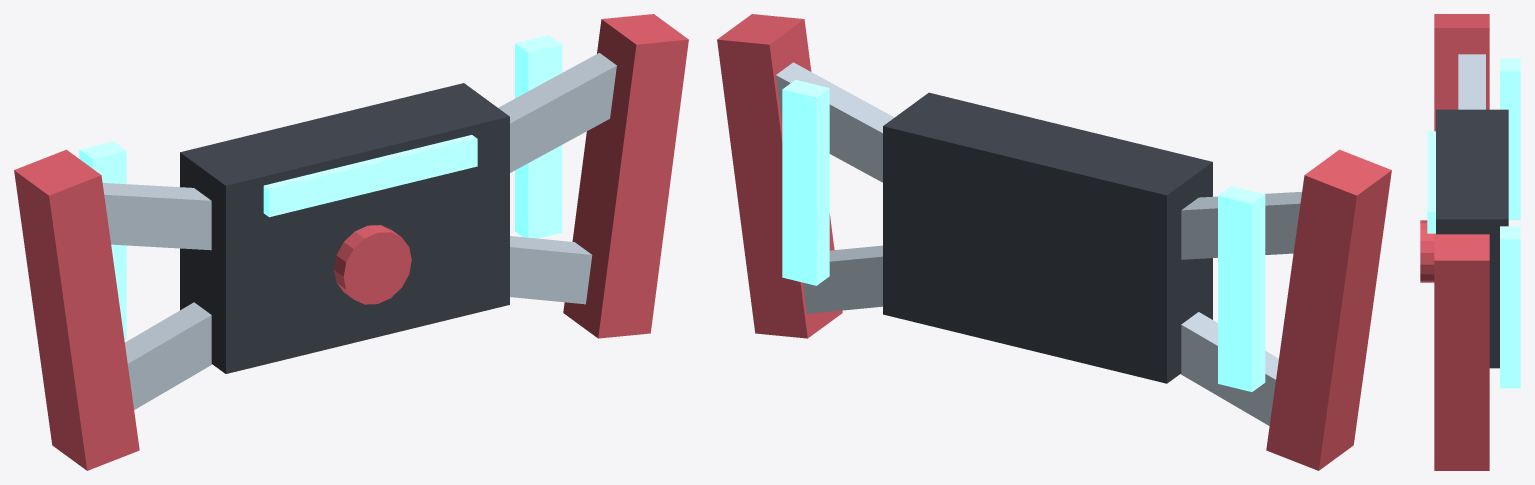
The model's file is steering_turbo_proto.glb.
3 renders of one model, left to right at view 1: azimuth 30°, elevation 25°; view 2: azimuth 150°, elevation 25°; view 3: azimuth 270°, elevation 25°, orthographic. The views are drawn at different scales.
Visible parts, largest first — view 1: WheelHub, ButterflyGripLeft, ButterflyGripRight, SpokeUpRight, ShiftLedBar, SpokeUpLeft, PaddleShifterRight, SpokeLowLeft, SpokeLowRight, RotaryDialC, PaddleShifterLeft; view 2: WheelHub, ButterflyGripLeft, ButterflyGripRight, PaddleShifterLeft, PaddleShifterRight, SpokeUpRight, SpokeLowLeft, SpokeUpLeft, SpokeLowRight; view 3: ButterflyGripRight, WheelHub, ButterflyGripLeft, PaddleShifterRight, PaddleShifterLeft, SpokeUpLeft, ShiftLedBar, RotaryDialC.
Boxes of the visible parts, left/top/right/bottom form: WheelHub: left=180, top=83, right=509, bottom=373; ButterflyGripLeft: left=14, top=149, right=139, bottom=470; ButterflyGripRight: left=563, top=14, right=688, bottom=338; SpokeUpRight: left=498, top=53, right=616, bottom=172; ShiftLedBar: left=263, top=135, right=477, bottom=217; SpokeUpLeft: left=102, top=183, right=211, bottom=250; PaddleShifterRight: left=515, top=35, right=562, bottom=238; SpokeLowLeft: left=125, top=302, right=212, bottom=409; SpokeLowRight: left=510, top=236, right=592, bottom=304; RotaryDialC: left=334, top=225, right=411, bottom=304; PaddleShifterLeft: left=79, top=141, right=126, bottom=339; WheelHub: left=883, top=92, right=1212, bottom=383; ButterflyGripLeft: left=1266, top=149, right=1391, bottom=470; ButterflyGripRight: left=717, top=14, right=842, bottom=338; PaddleShifterLeft: left=1218, top=186, right=1265, bottom=391; PaddleShifterRight: left=782, top=79, right=829, bottom=285; SpokeUpRight: left=776, top=62, right=894, bottom=182; SpokeLowLeft: left=1180, top=312, right=1278, bottom=425; SpokeUpLeft: left=1181, top=191, right=1301, bottom=259; SpokeLowRight: left=803, top=245, right=882, bottom=313; ButterflyGripRight: left=1434, top=234, right=1489, bottom=470; WheelHub: left=1436, top=109, right=1508, bottom=368; ButterflyGripLeft: left=1434, top=14, right=1489, bottom=131; PaddleShifterRight: left=1500, top=226, right=1520, bottom=388; PaddleShifterLeft: left=1500, top=58, right=1520, bottom=220; SpokeUpLeft: left=1458, top=54, right=1485, bottom=109; ShiftLedBar: left=1427, top=131, right=1435, bottom=233; RotaryDialC: left=1420, top=220, right=1435, bottom=282.
Size of the model in its own units: 0.3379 by 0.1475 by 0.058.
